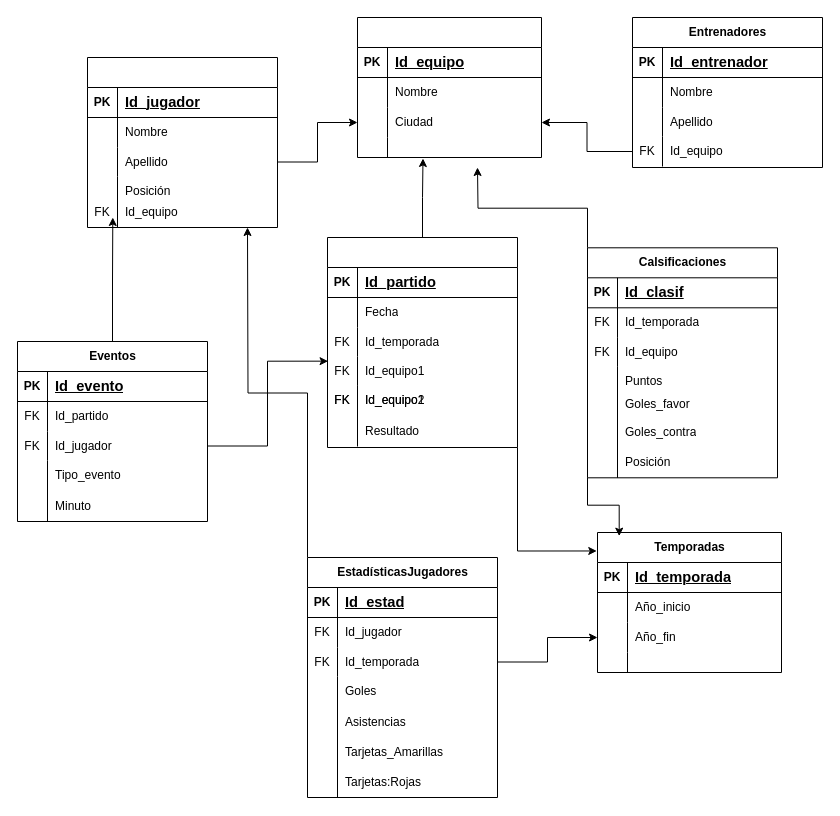
Image size: 840x816. Some labels were removed from this diagram. The box of each missing label's shape, as (x1, y1, x2, y2) in pixels:
Equipos: (356, 16, 542, 158)
Jugadores: (86, 56, 278, 228)
Partidos: (326, 236, 518, 448)
